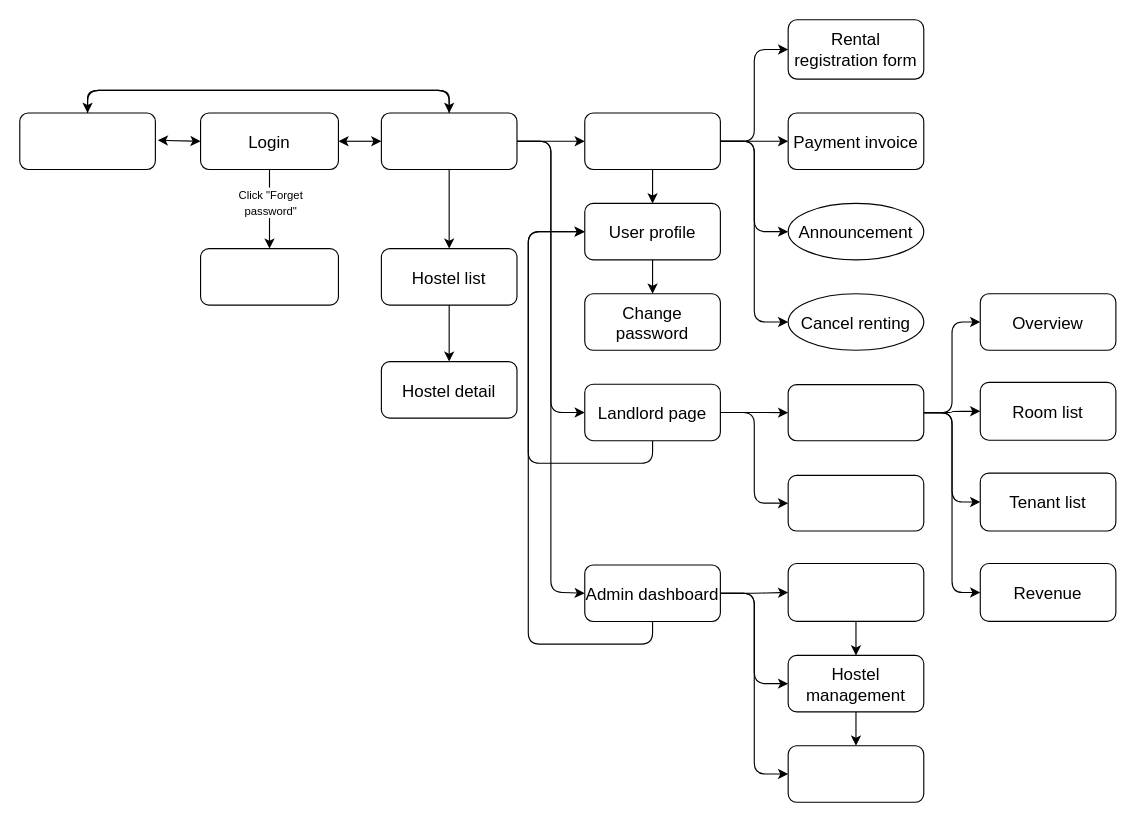
This 1136x823 diagram has some shape labels left out. Here are the shapes that lost their labels. From the top down, the centre of each, then its label:
At pixel 87 140: "Register".
At pixel 448 140: "Home".
At pixel 652 140: "Tenant page".
At pixel 268 276: "Reset password".
At pixel 855 412: "Landlord's hostel".
At pixel 855 502: "Register a hostel for rent".
At pixel 855 591: "Landlord management".
At pixel 855 773: "Tenant management".
